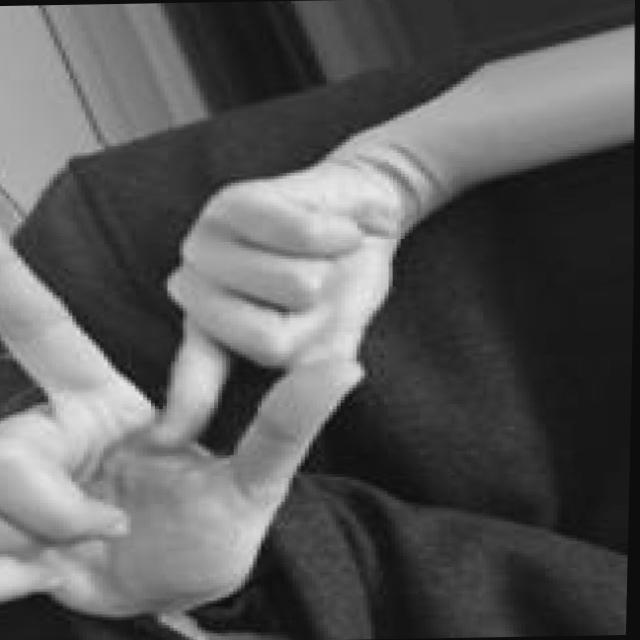J: (0, 142, 445, 621)
